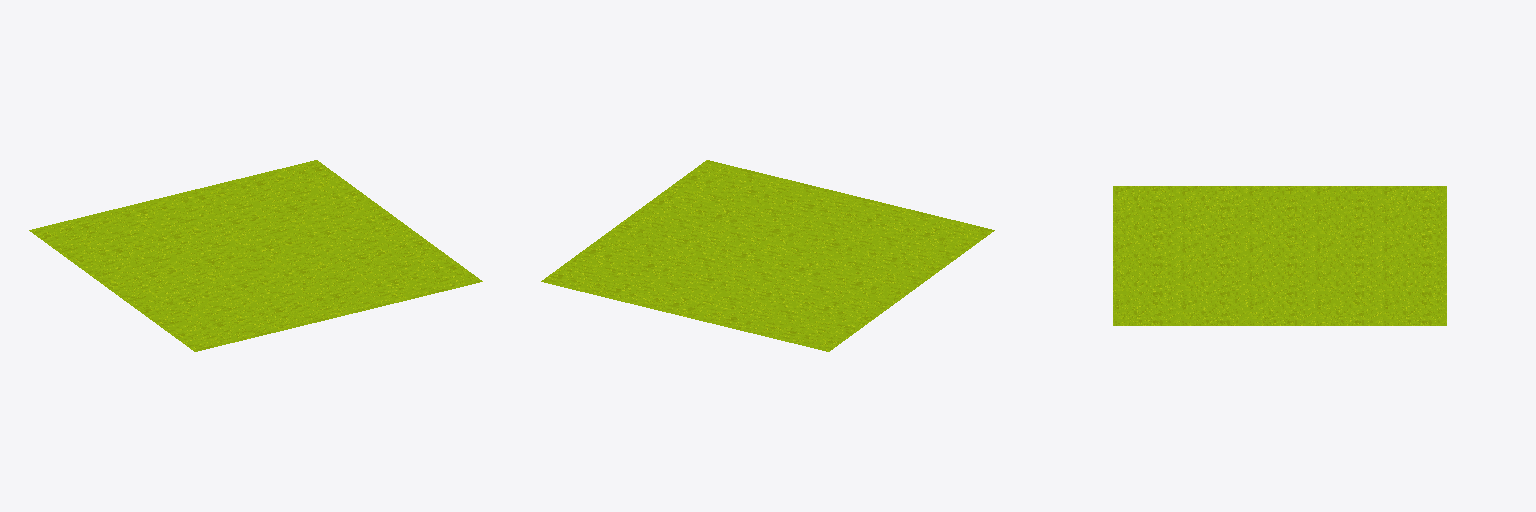
3 renders of one model, left to right at view 1: azimuth 30°, elevation 25°; view 2: azimuth 150°, elevation 25°; view 3: azimuth 270°, elevation 25°, orthographic.
Visible parts, largest first — view 1: pPlane1; view 2: pPlane1; view 3: pPlane1.
Boxes of the visible parts, box(x1,y1,x2,y2) form: pPlane1: box(29, 160, 482, 351); pPlane1: box(541, 160, 994, 351); pPlane1: box(1113, 186, 1446, 325).
Bounding box in the file's own units: 11.68 × 0 × 11.68.
1 materials, 1 textured.